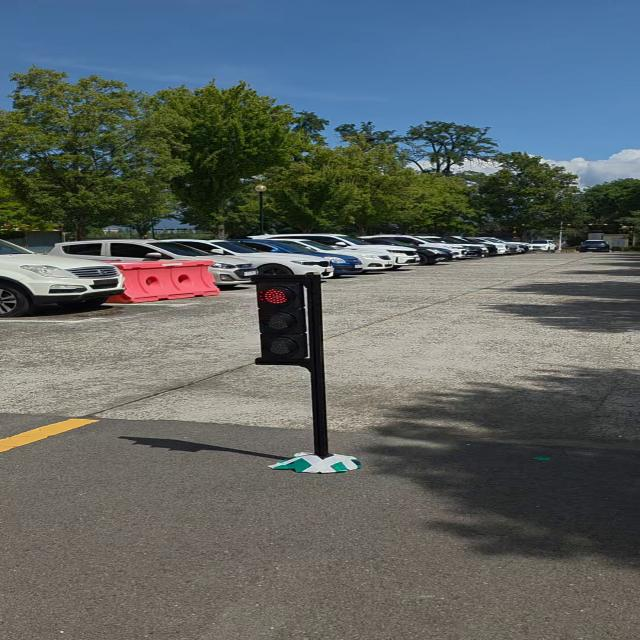red: (253, 279, 306, 365)
